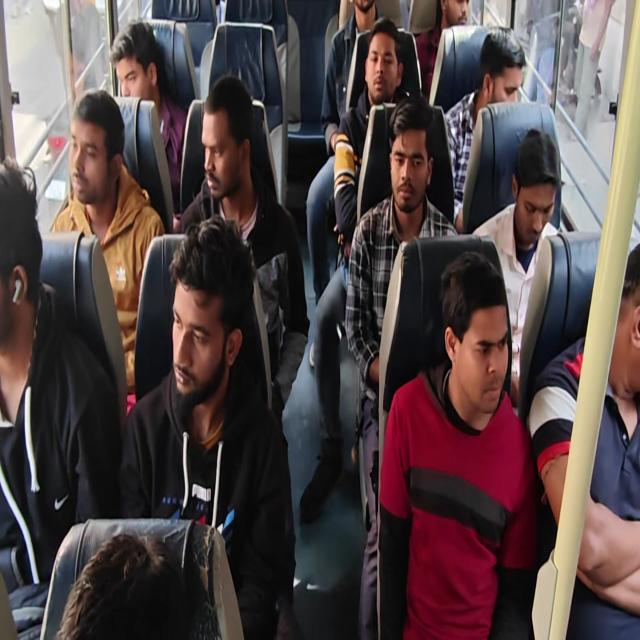person: (54, 536, 266, 640), (154, 230, 255, 400), (429, 238, 513, 401), (0, 146, 51, 374), (53, 88, 128, 205), (110, 26, 182, 124), (195, 82, 252, 200), (505, 133, 564, 246), (598, 238, 640, 396), (468, 36, 522, 132), (383, 111, 432, 208), (367, 26, 397, 102), (437, 0, 484, 46), (340, 0, 386, 37)
